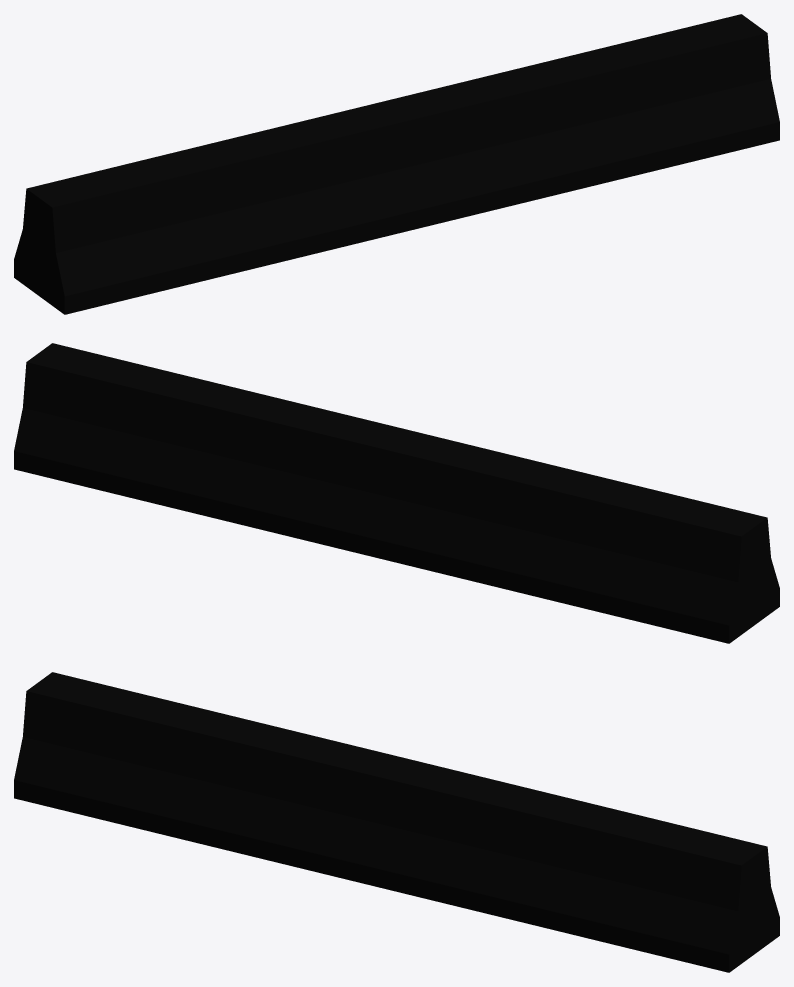
File: barrierWall.glb
The picture shows the model from 3 angles, top to bottom: view 1: azimuth 30°, elevation 25°; view 2: azimuth 150°, elevation 25°; view 3: azimuth 330°, elevation 25°; orthographic projection.
Parts seen in each view (by area): view 1: Mesh noExport; view 2: Mesh noExport; view 3: Mesh noExport.
Part boxes in pixels (x1,y1,x2,y2): Mesh noExport: [14, 14, 779, 314]; Mesh noExport: [14, 343, 779, 643]; Mesh noExport: [14, 672, 779, 972].
Bounding box in the file's own units: 1 × 0.1312 × 0.1229.
1 material, 1 textured.
